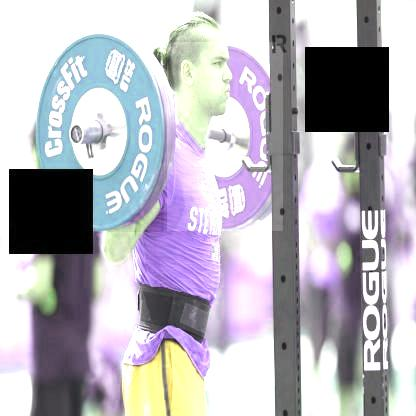barbell: (36, 33, 164, 232), (167, 42, 283, 231)
